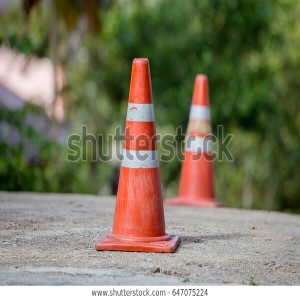traffic cone: (95, 57, 180, 253), (165, 73, 229, 208)
